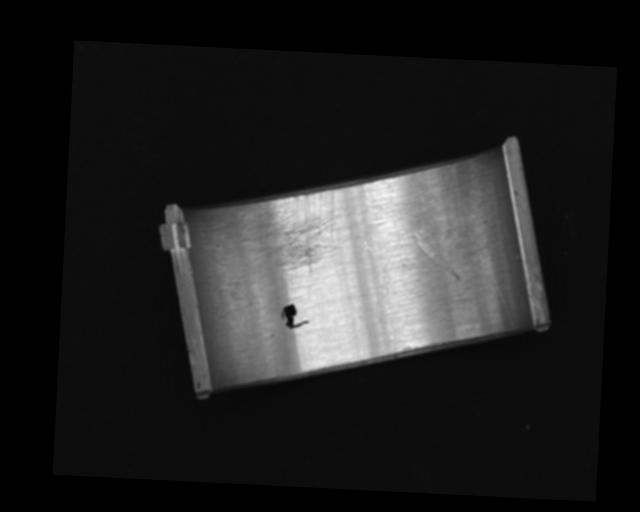blot: (280, 303, 310, 330)
nick: (355, 239, 403, 354), (474, 246, 520, 332), (412, 234, 462, 280), (411, 184, 426, 245)
scratch: (221, 186, 344, 275)
